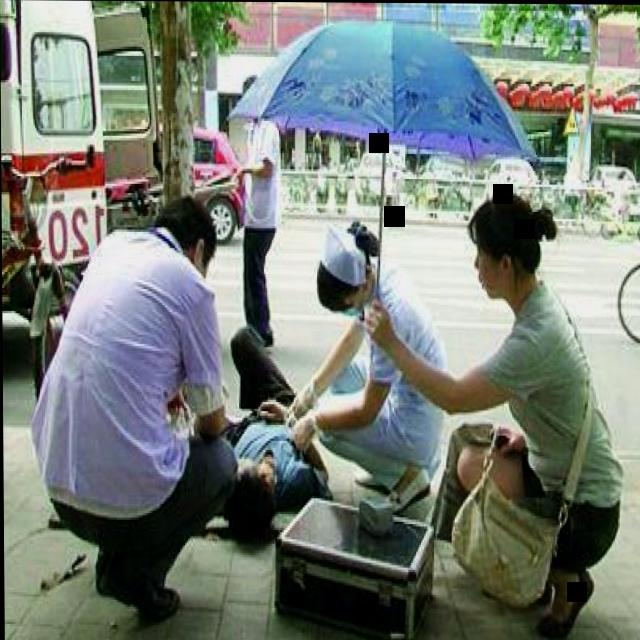Fall-Detected: (191, 324, 341, 532)
